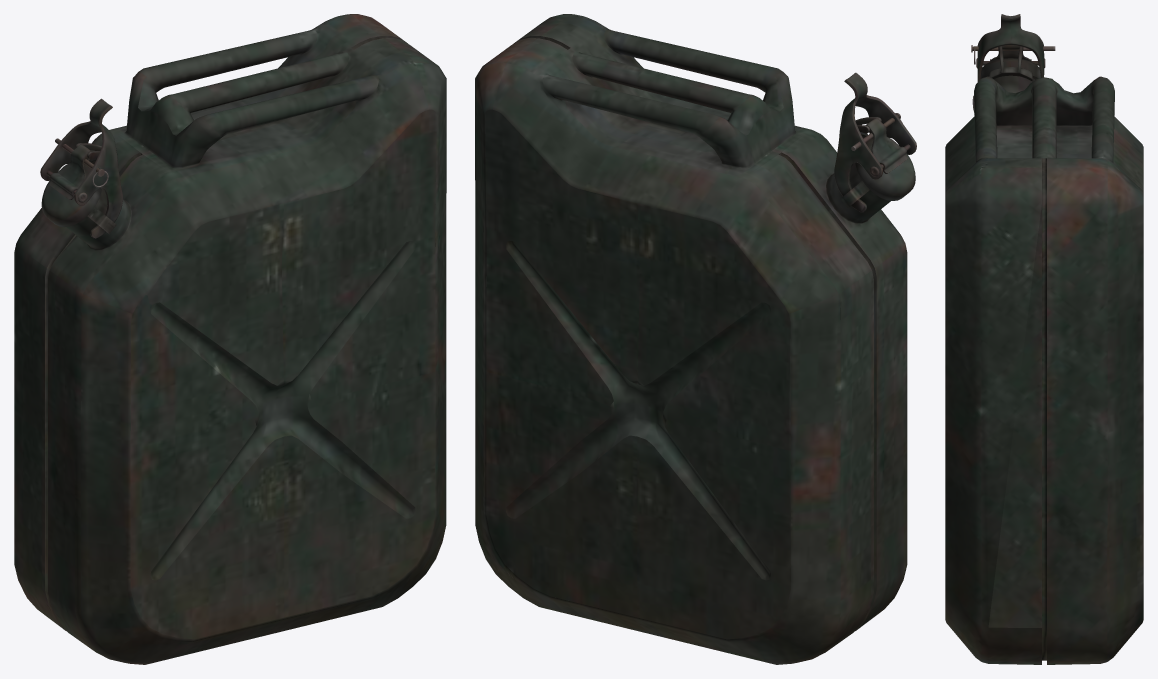
Rendered from metal_jerrycan_green.glb.
3 views of the same model, side by side, from view 1: azimuth 30°, elevation 25°; view 2: azimuth 150°, elevation 25°; view 3: azimuth 270°, elevation 25° (orthographic). The views are drawn at different scales.
Parts seen in each view (by area): view 1: metal_jerrycan_green_body, metal_jerrycan_green_latch, metal_jerrycan_green_cap; view 2: metal_jerrycan_green_body, metal_jerrycan_green_latch, metal_jerrycan_green_cap; view 3: metal_jerrycan_green_body, metal_jerrycan_green_latch, metal_jerrycan_green_cap, metal_jerrycan_green_fastener.
Part boxes in pixels (<box>): metal_jerrycan_green_body: <box>14,14,446,664</box>; metal_jerrycan_green_latch: <box>40,98,122,238</box>; metal_jerrycan_green_cap: <box>41,144,101,227</box>; metal_jerrycan_green_body: <box>475,14,907,664</box>; metal_jerrycan_green_latch: <box>834,72,916,212</box>; metal_jerrycan_green_cap: <box>855,118,915,200</box>; metal_jerrycan_green_body: <box>945,75,1143,664</box>; metal_jerrycan_green_latch: <box>976,14,1045,81</box>; metal_jerrycan_green_cap: <box>981,45,1040,79</box>; metal_jerrycan_green_fastener: <box>989,46,1032,81</box>.
Size of the model in its own units: 0.3604 by 0.4999 by 0.1709.
Materials: 1 (1 with a texture image).
